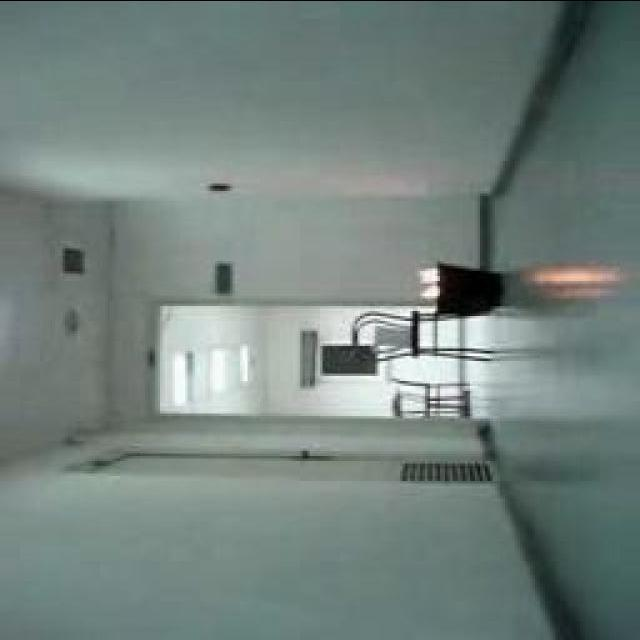Fire: (412, 264, 435, 314)
